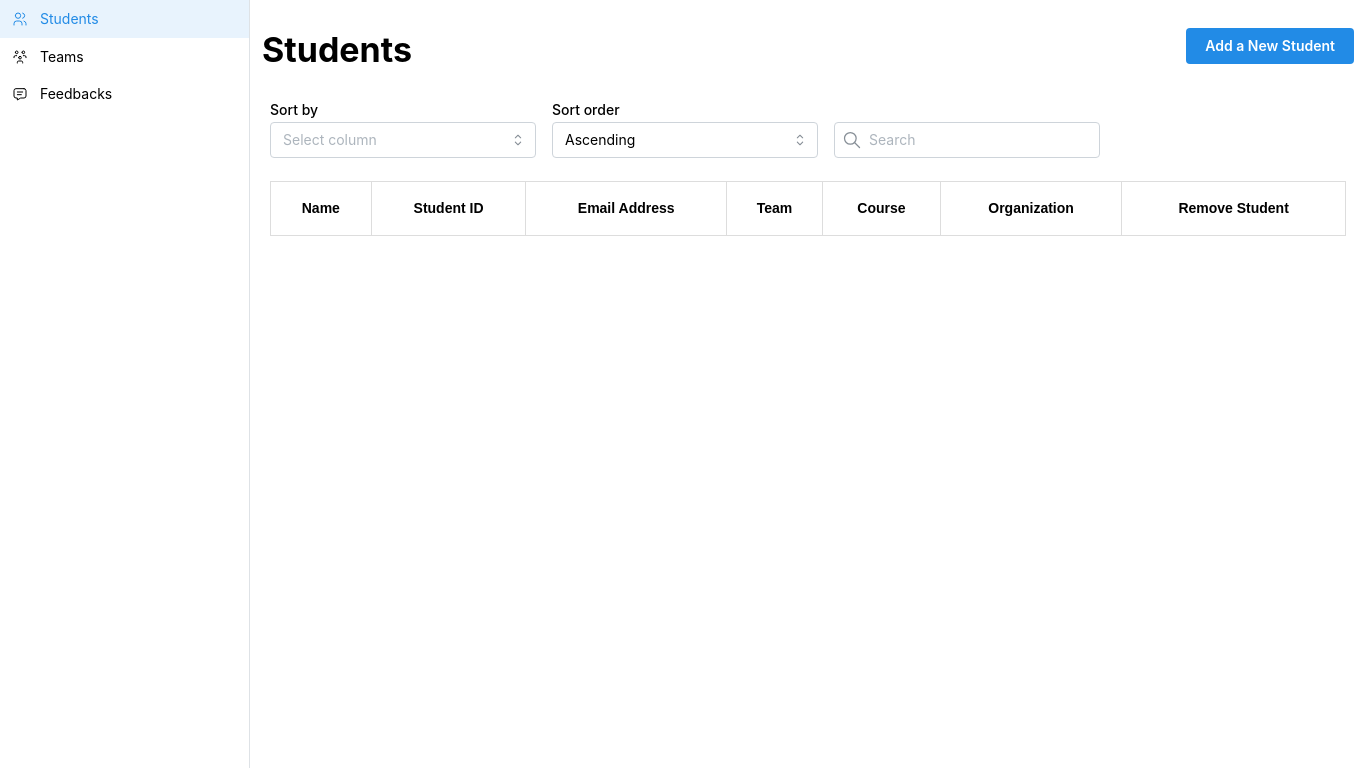
Test: InstructorDashboard › can choose an existing course after choosing an organization
What coordinates should you click on to do the following:
click the icon with test id "Teams"
I would click on:
 (20, 56)
Its box is [12, 48, 28, 64].
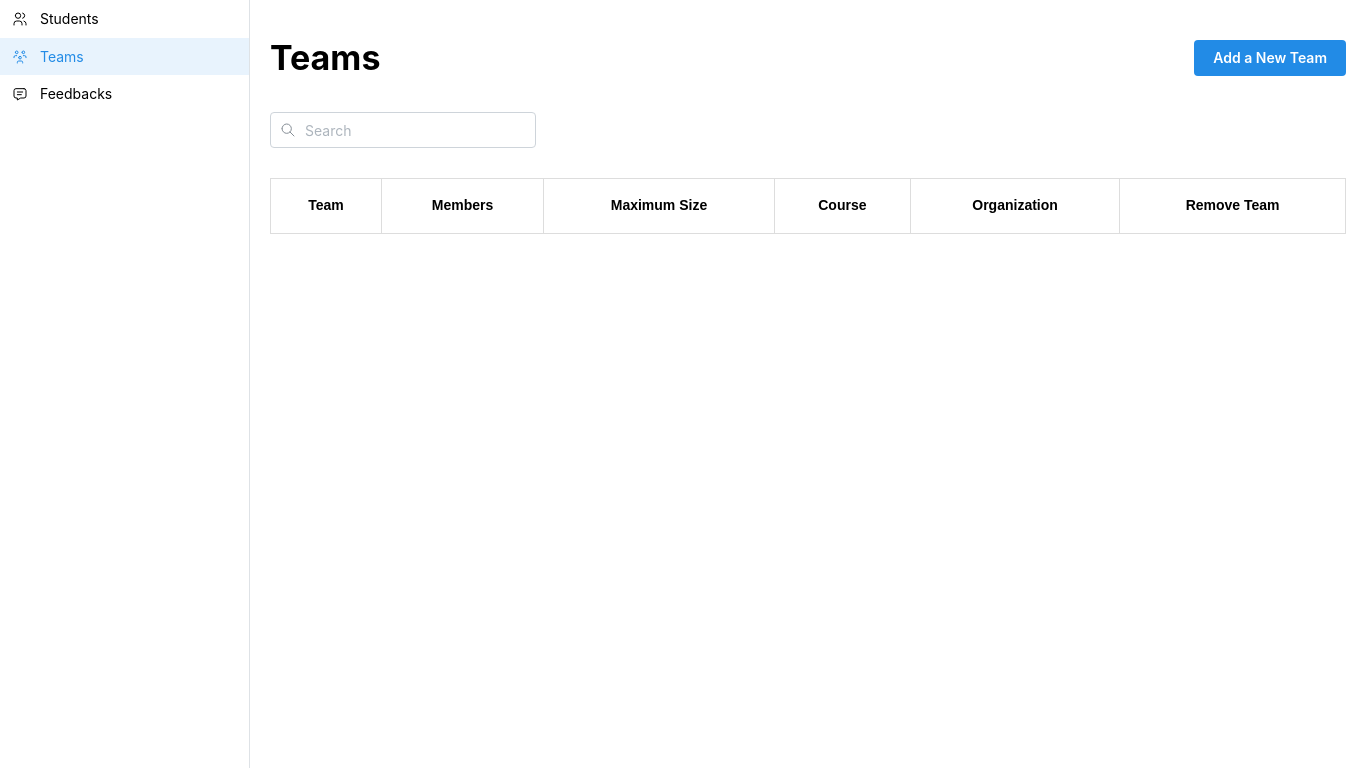
Expected: the heading "Teams" is shown, [270, 36, 380, 80]
Expected: the button with test id "newteam" is shown
What coordinates should you click on to do the following:
click the button with test id "newteam"
I would click on:
 (1270, 58)
Its box is [1194, 40, 1346, 76].
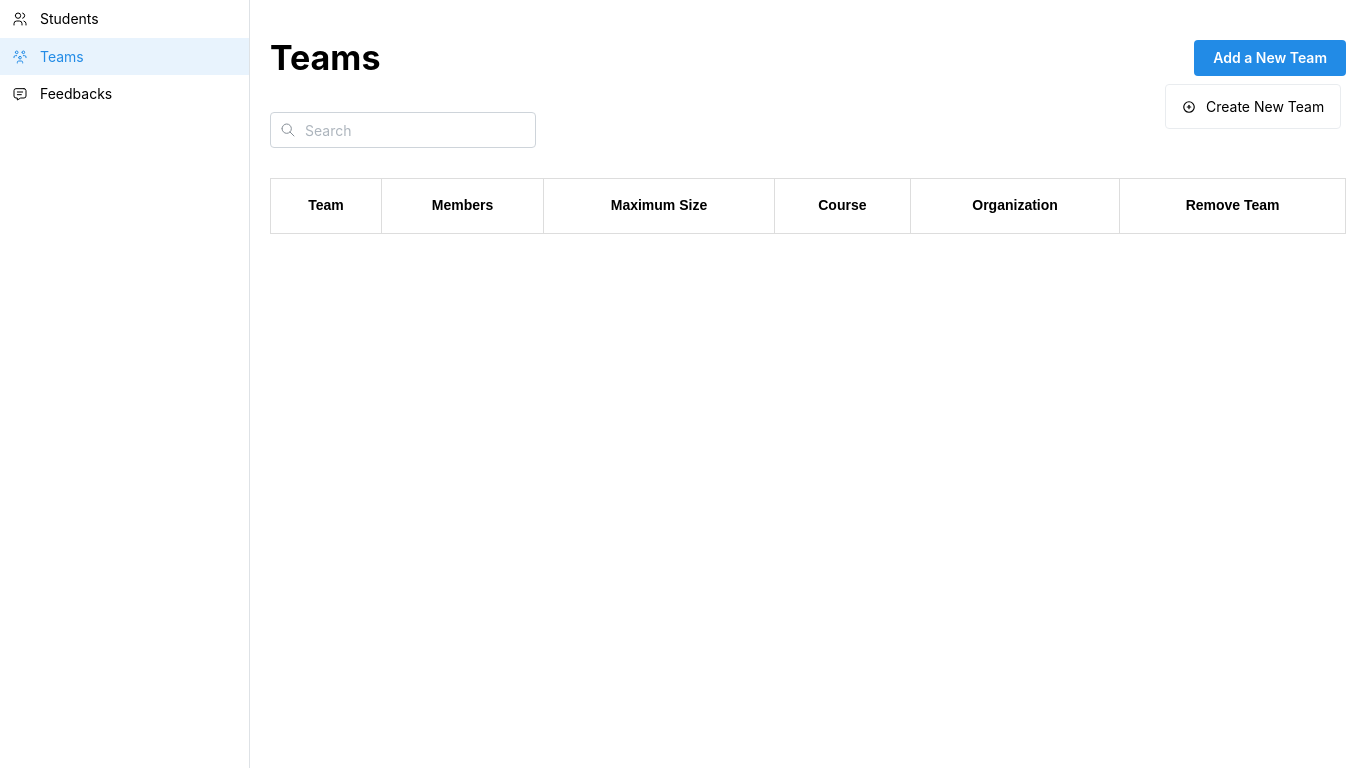
Expected: the text "Create New Team" is shown, [1206, 96, 1324, 118]
What coordinates should you click on to do the following:
click the menu item "Create New Team"
I would click on:
 (1253, 107)
Its box is [1170, 89, 1336, 124].
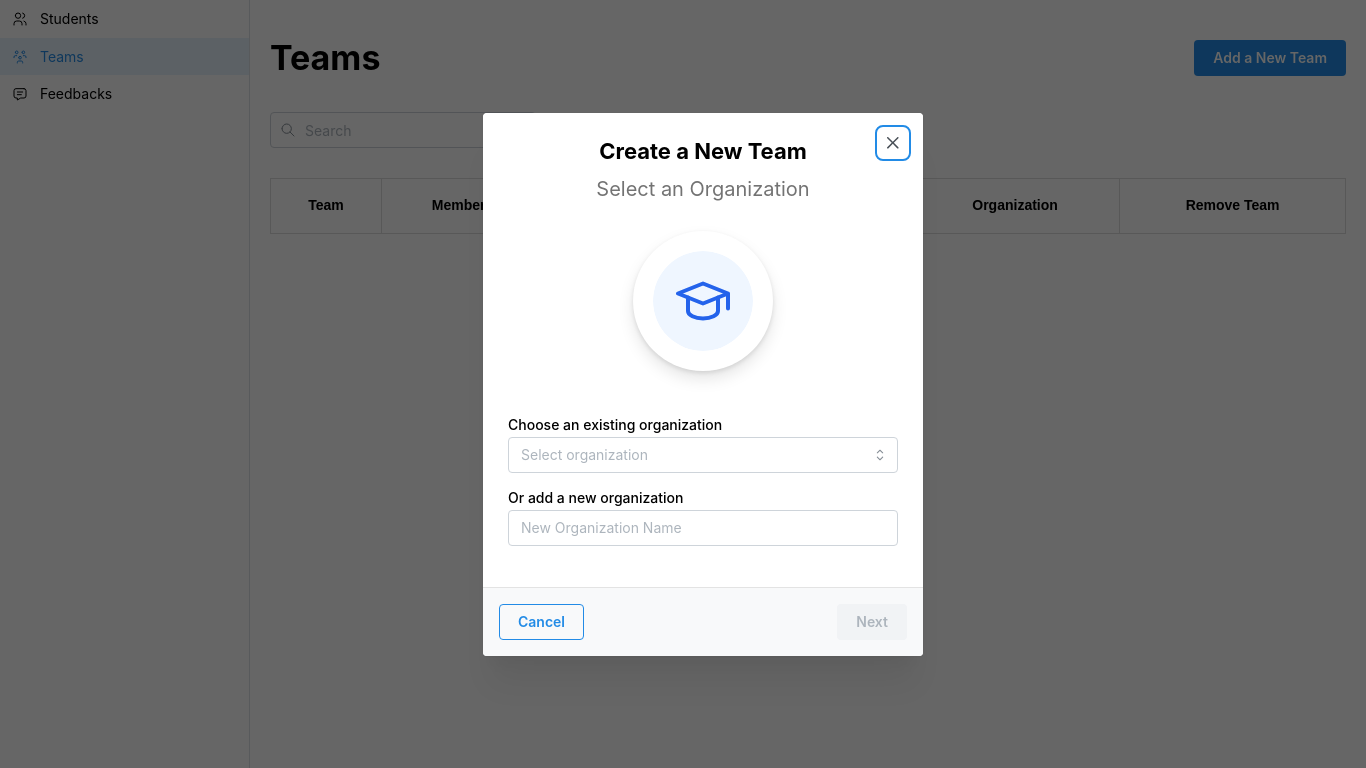
Expected: the text "Select an Organization" is shown, [596, 173, 810, 206]
Expected: the field with placeholder "Select organization" is shown
What coordinates should you click on to do the following:
click the field with placeholder "Select organization"
I would click on:
 (703, 454)
Its box is [508, 436, 898, 472].
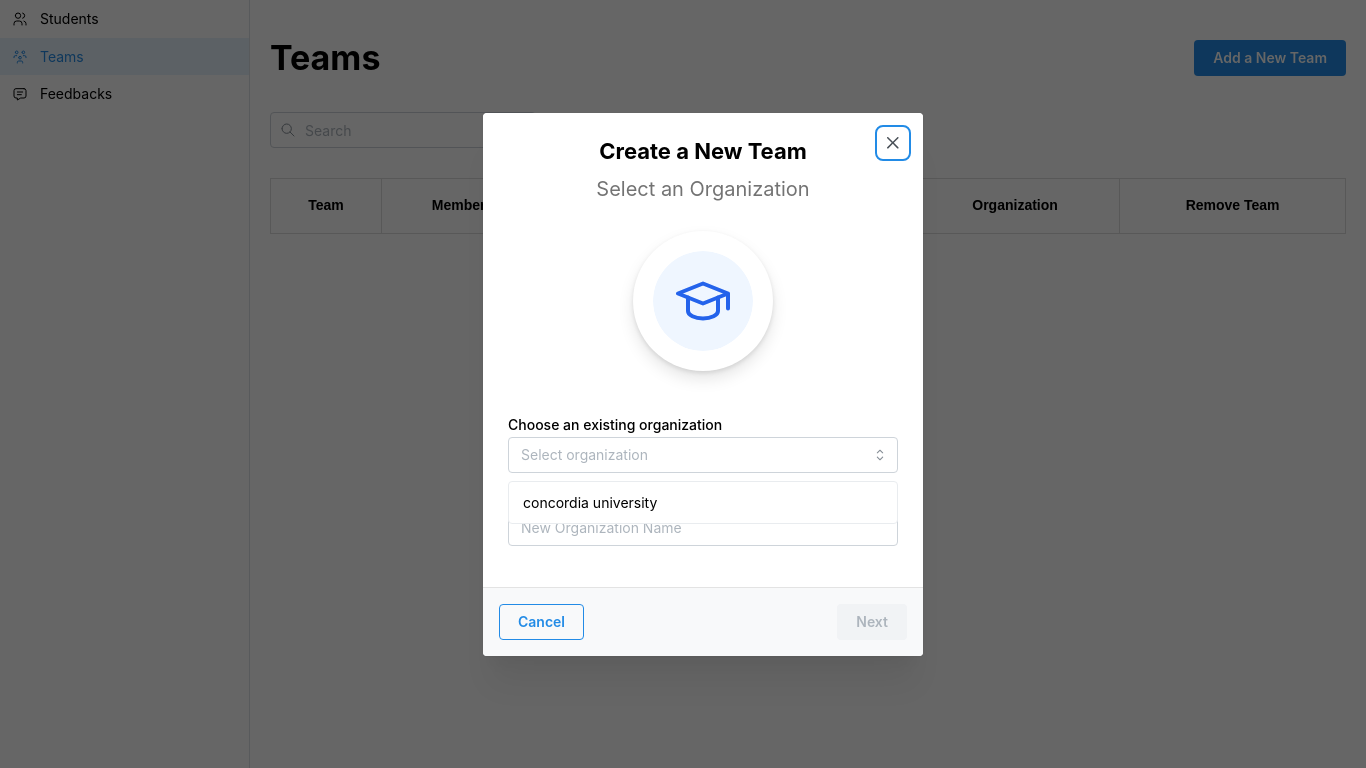
Expected: the text "concordia university" is shown
What coordinates should you click on to do the following:
click the option "concordia university"
I would click on:
 (590, 502)
Its box is [523, 494, 657, 510].
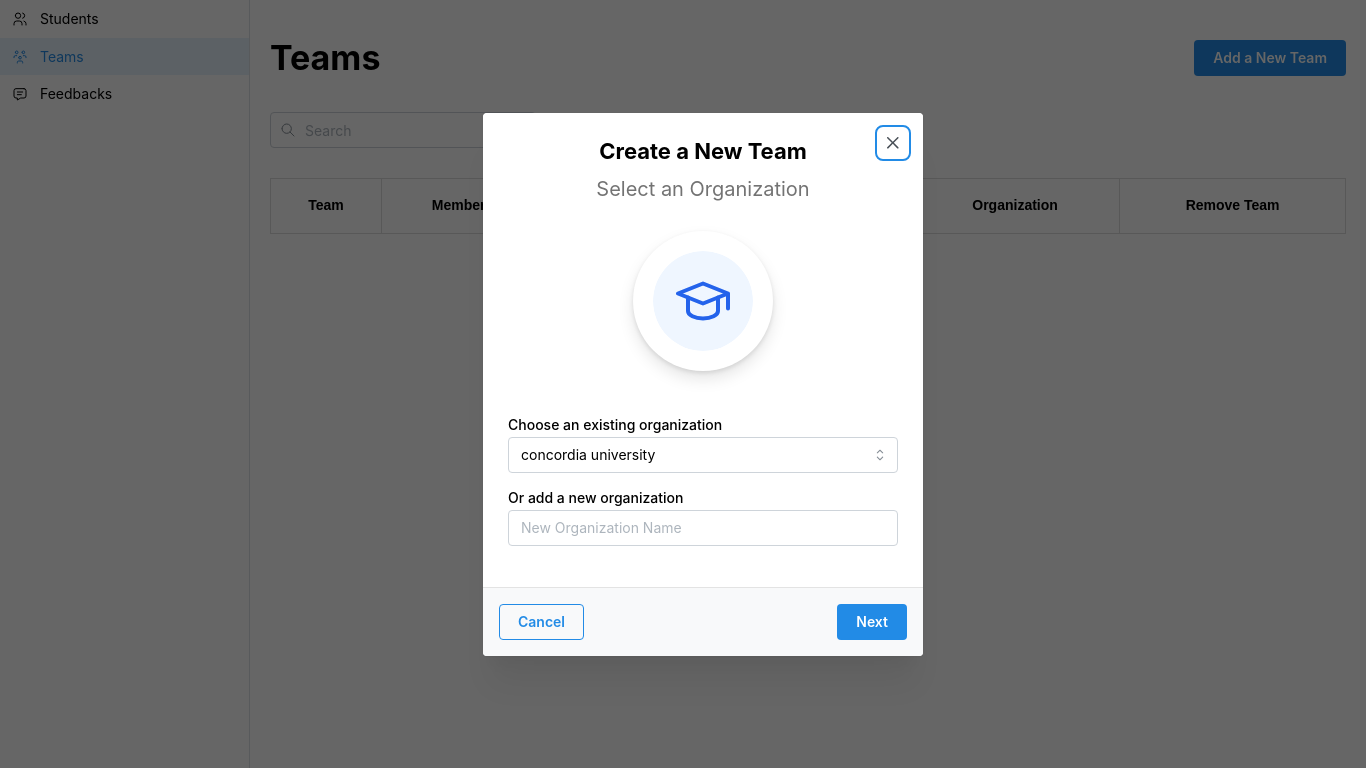
Expected: the button with test id "nextbttn" is enabled
What coordinates should you click on to do the following:
click the button with test id "nextbttn"
I would click on:
 (872, 621)
Its box is [837, 603, 907, 639].
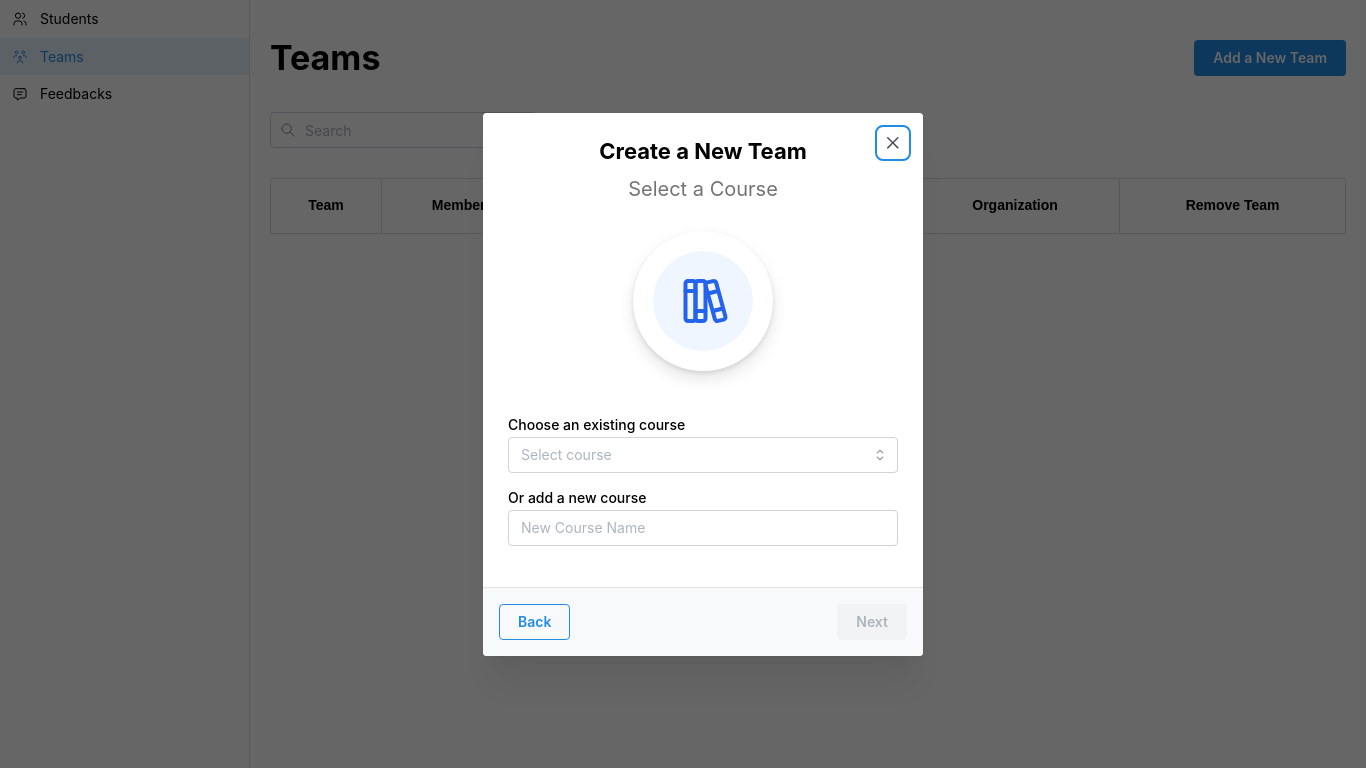
Expected: the text "Choose an existing course" is shown, [508, 414, 685, 435]
Expected: the field with placeholder "Select course" is shown, [508, 436, 898, 472]
